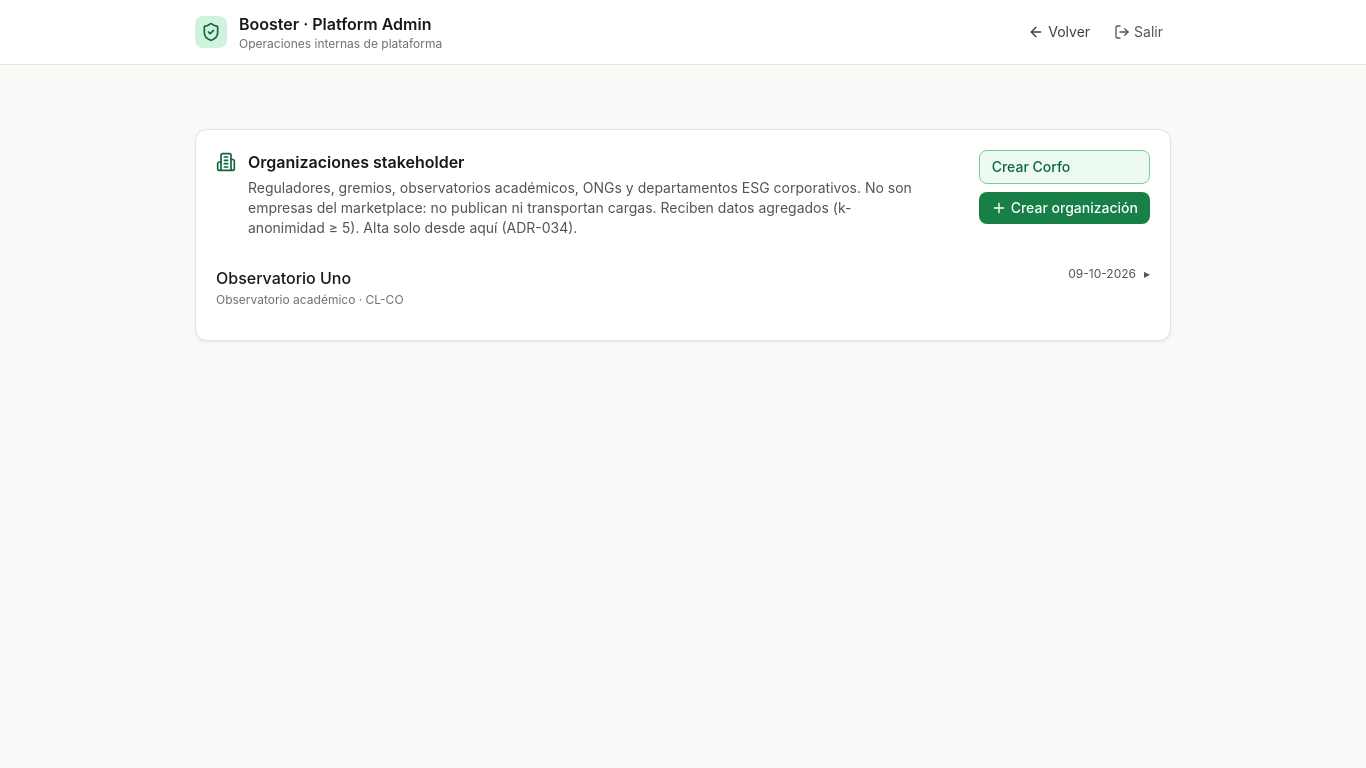
Test: invitar miembro stakeholder › el código de activación queda visible tras invitar
Click the button "Observatorio Uno Observatorio académico · CL-CO 09-10-2026 ▸" at [284, 278], box [216,266,1150,308]
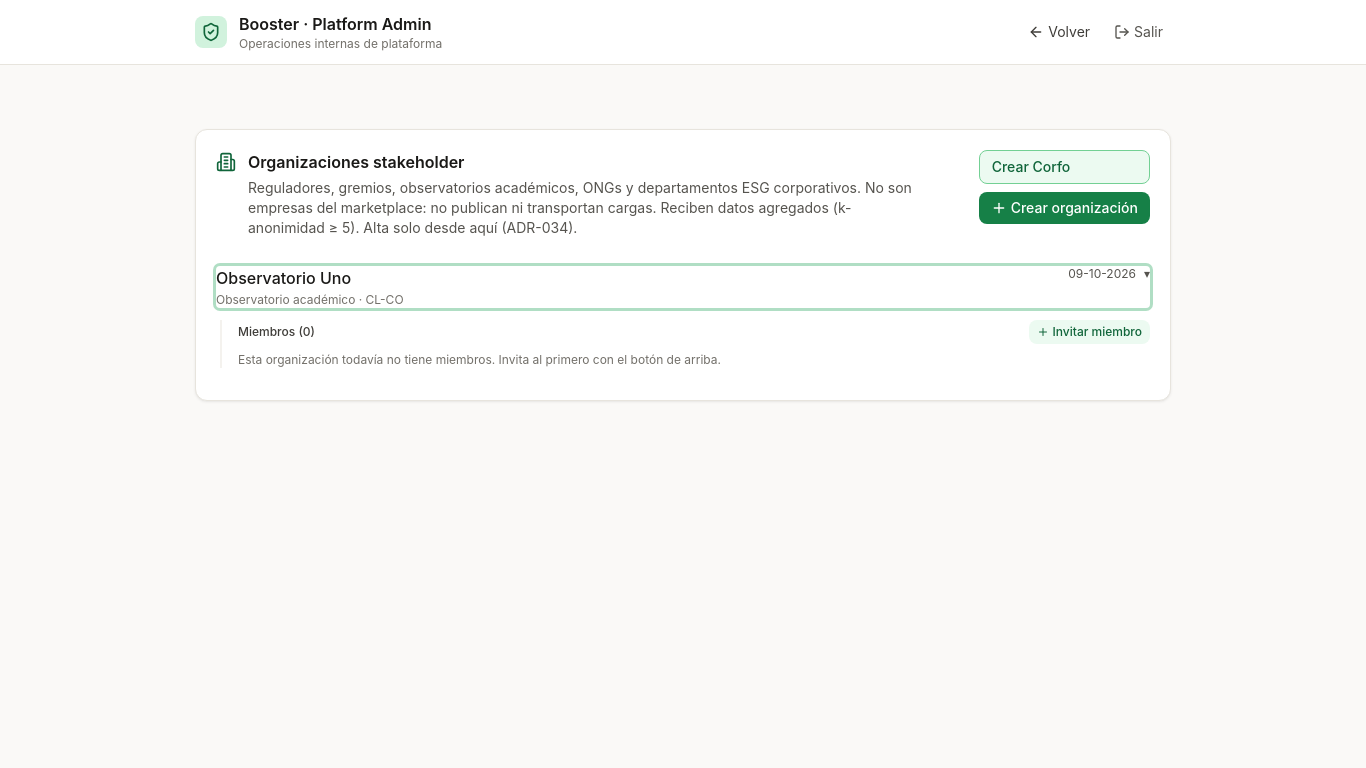
Click the button "Invitar miembro" at [1089, 332], box [1028,320,1150,344]
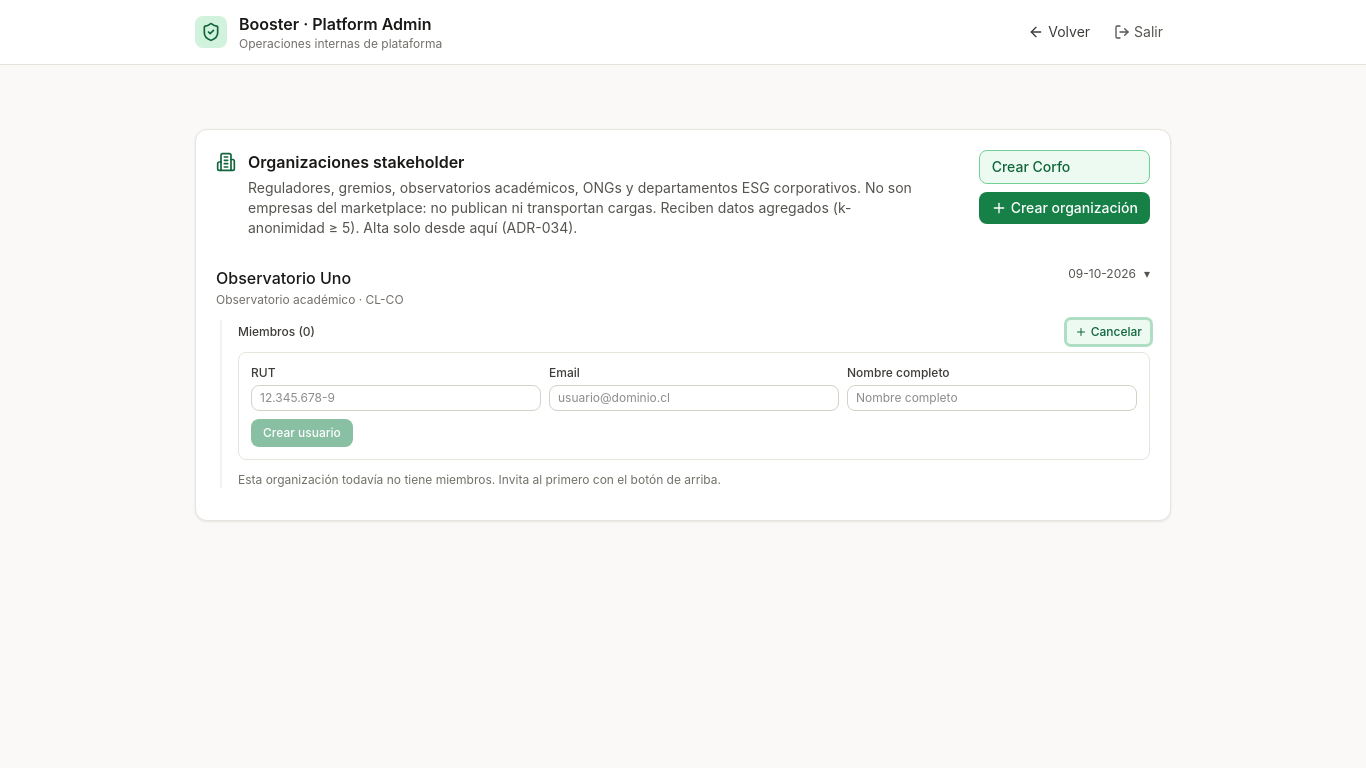
Type "75757575-2" into the field labelled "RUT" at [396, 398], box [251,385,541,411]
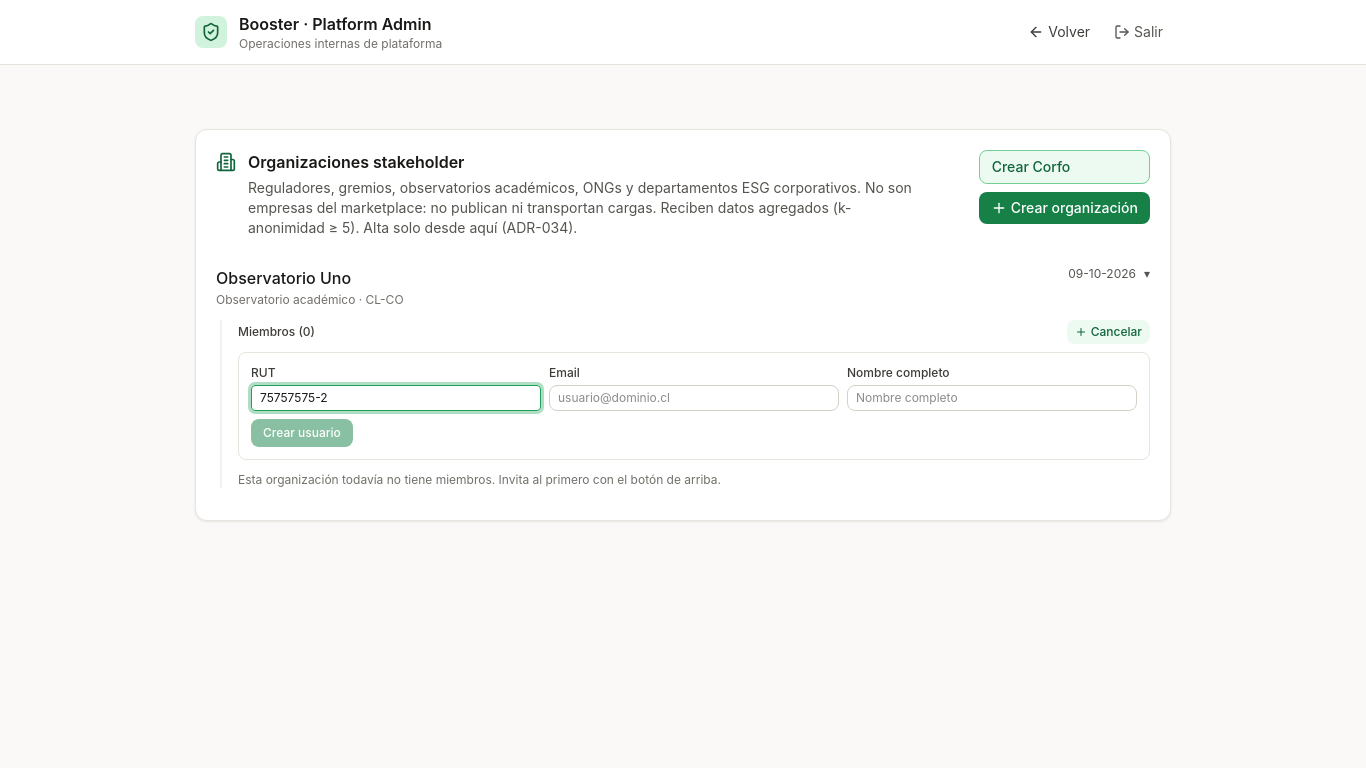
Type "analista@observatorio.cl" into the field labelled "Email" at [694, 398], box [549,385,839,411]
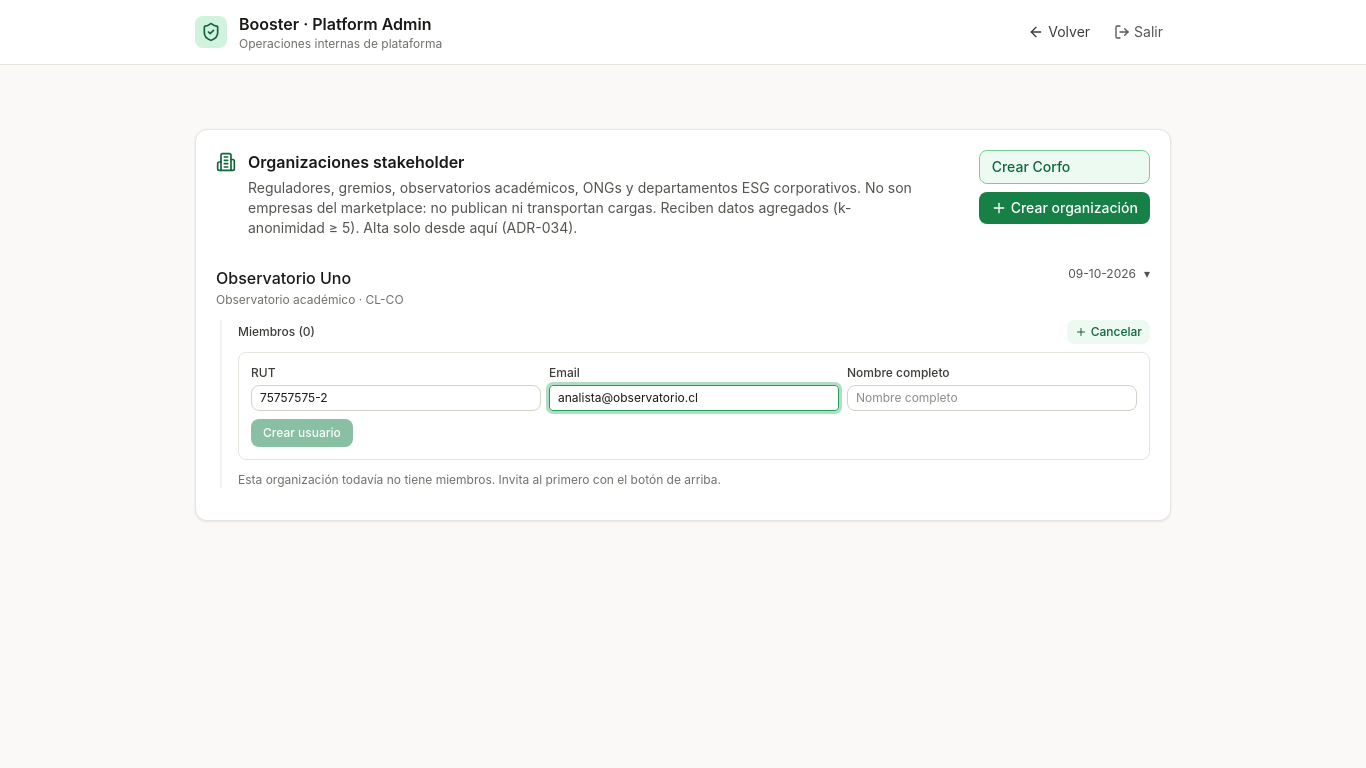
Type "Analista Uno" into the field with placeholder "Nombre completo" at [992, 398], box [847,385,1137,411]
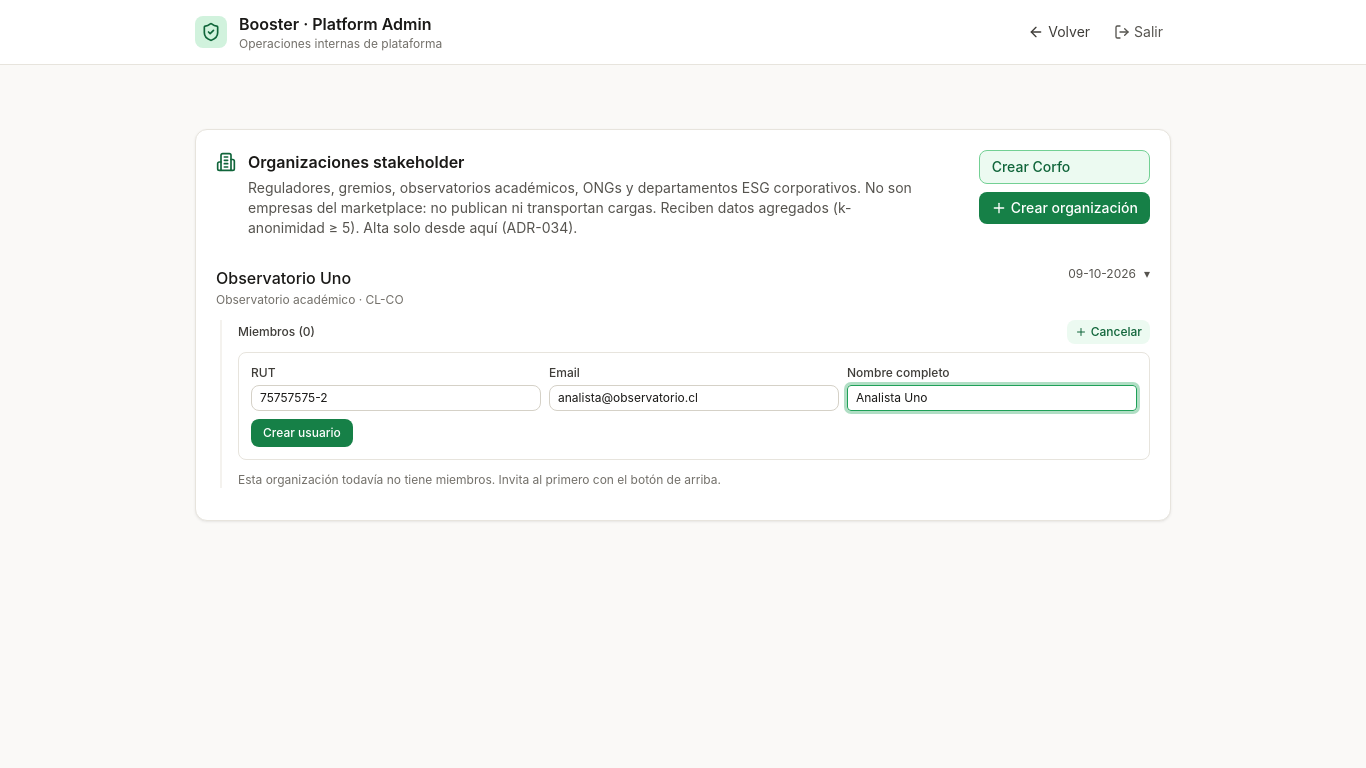
Click the button "Crear usuario" at [302, 433], box [251,419,353,447]
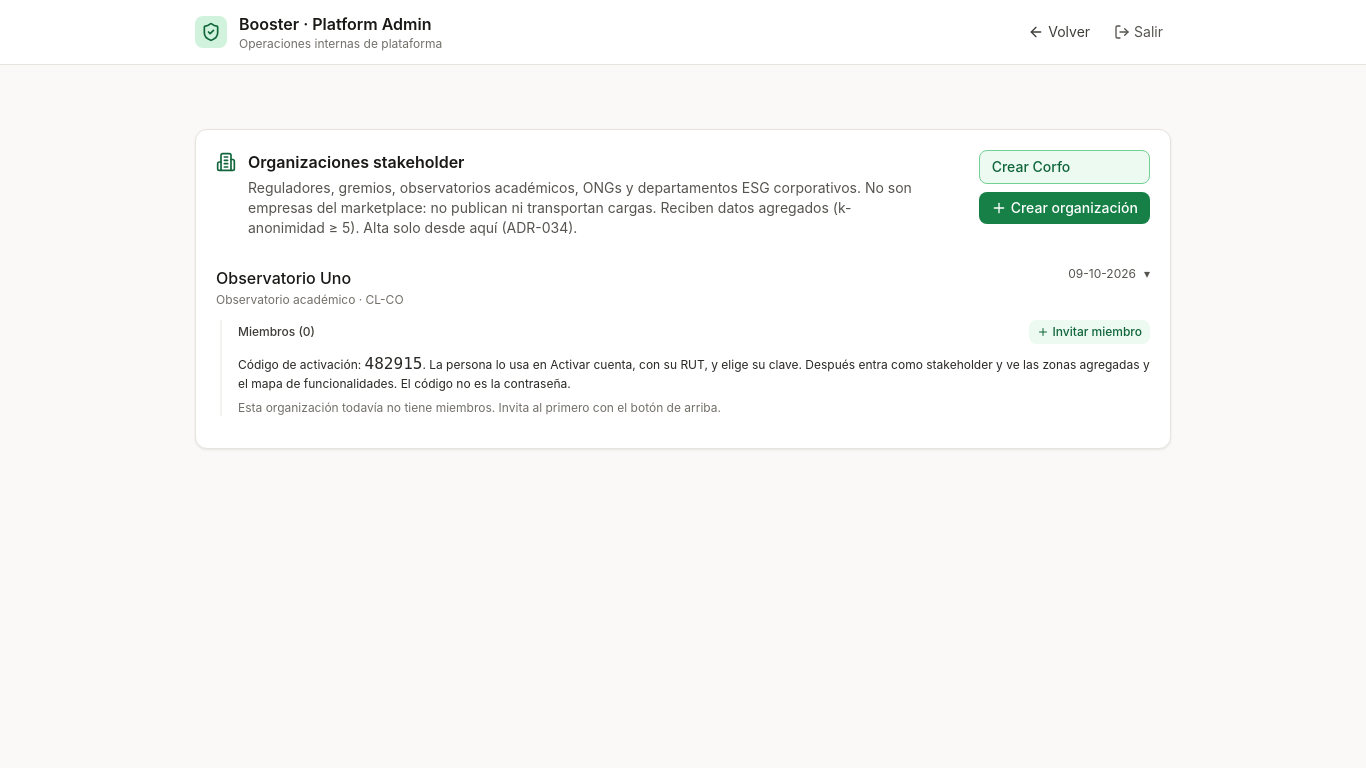
Now the element with test id "stakeholder-codigo" shows "482915", box [365,354,422,373]
Now the element with test id "stakeholder-codigo" is shown, box [238,352,1150,400]
